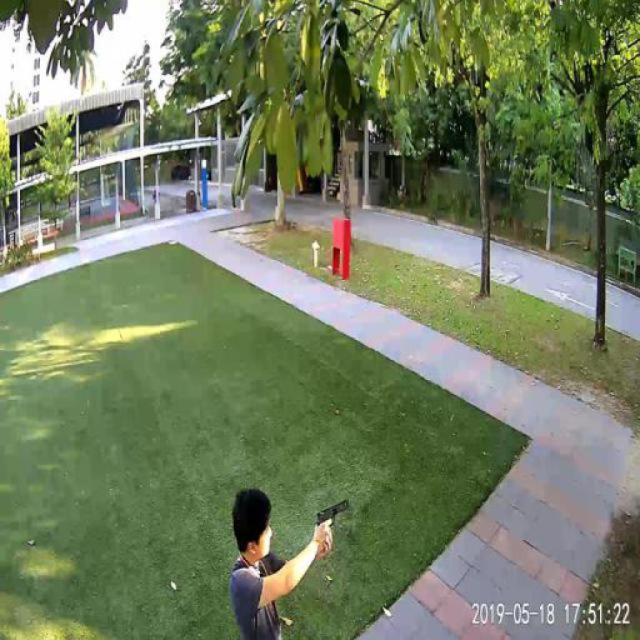pistol: (313, 498, 347, 522)
